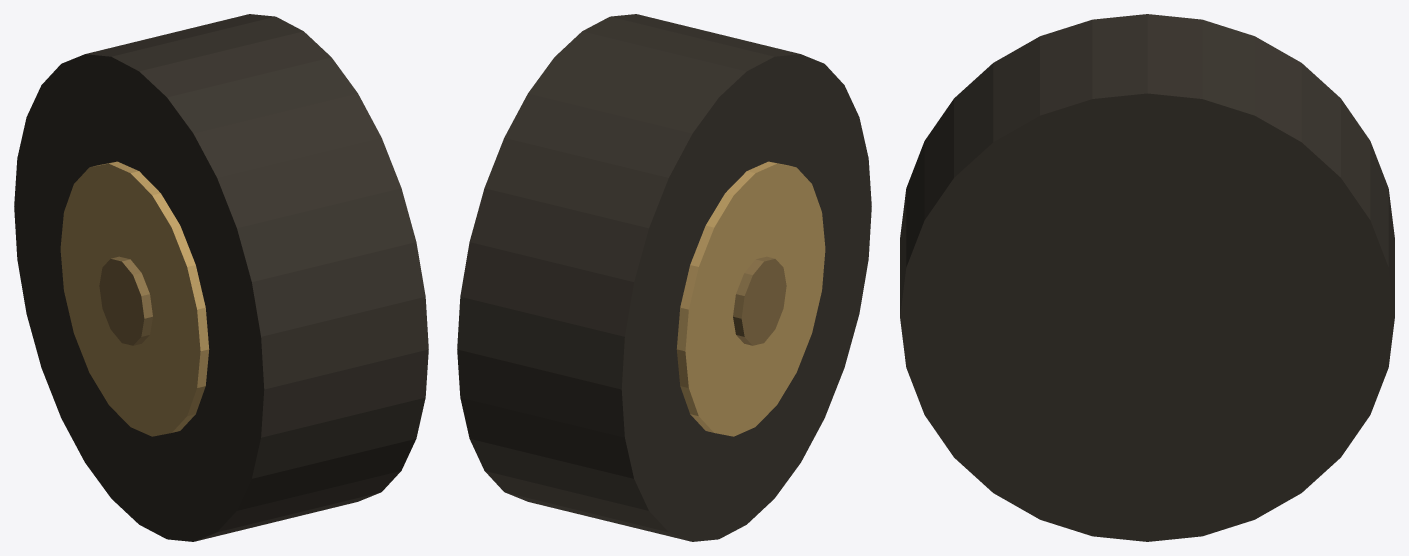
File: wheel_negx.obj
The picture shows the model from 3 angles, left to right: view 1: azimuth 30°, elevation 25°; view 2: azimuth 150°, elevation 25°; view 3: azimuth 270°, elevation 25°; orthographic projection.
Parts seen in each view (by area): view 1: part0, part1, part2; view 2: part0, part1, part2; view 3: part0.
Part boxes in pixels (x1,y1,x2,y2): part0: [14, 14, 428, 541]; part1: [60, 161, 209, 436]; part2: [99, 256, 152, 345]; part0: [457, 14, 871, 541]; part1: [676, 161, 825, 436]; part2: [733, 256, 786, 345]; part0: [900, 14, 1394, 541].
Bounding box in the file's own units: 0.42 × 1 × 1.
